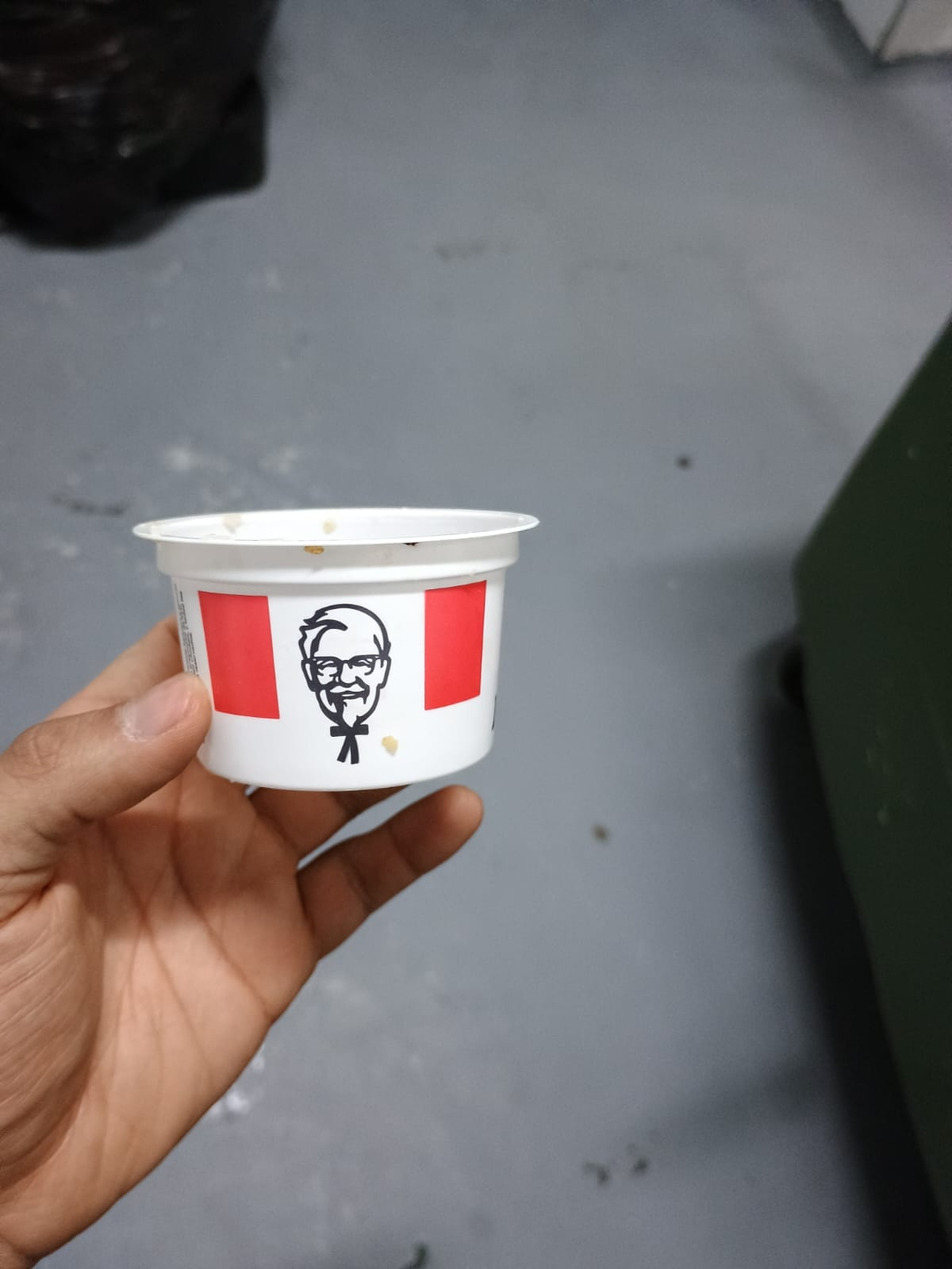Plastico: (129, 508, 540, 791)
